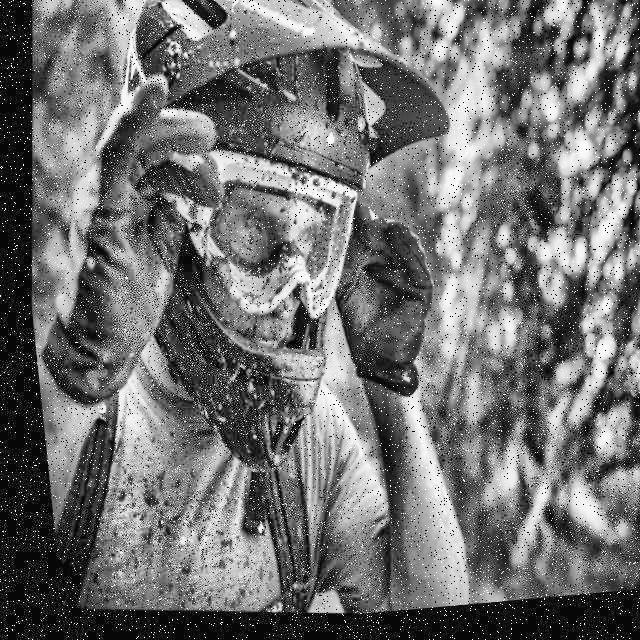Helmet: (63, 0, 496, 517)
